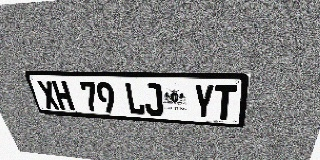7: (78, 81, 101, 112)
9: (95, 82, 117, 113)
H: (51, 81, 75, 111)
J: (142, 83, 164, 116)
L: (124, 82, 146, 115)
T: (214, 84, 237, 121)
X: (36, 80, 60, 110)
Y: (194, 84, 215, 119)
